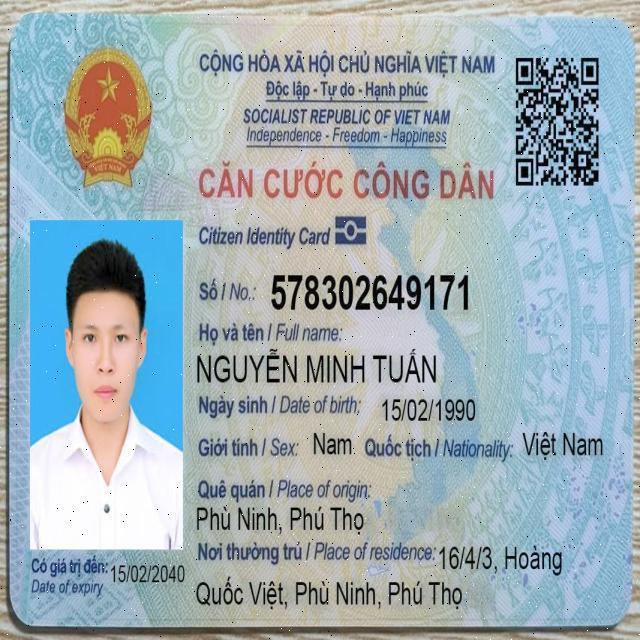current_place: (194, 573, 465, 615), (437, 541, 565, 579)
dob: (380, 393, 477, 426)
expire_date: (109, 559, 187, 588)
gender: (312, 430, 354, 460)
id: (268, 267, 472, 319)
name: (195, 345, 438, 389)
nationality: (520, 428, 605, 465)
origin_place: (194, 503, 365, 539)
